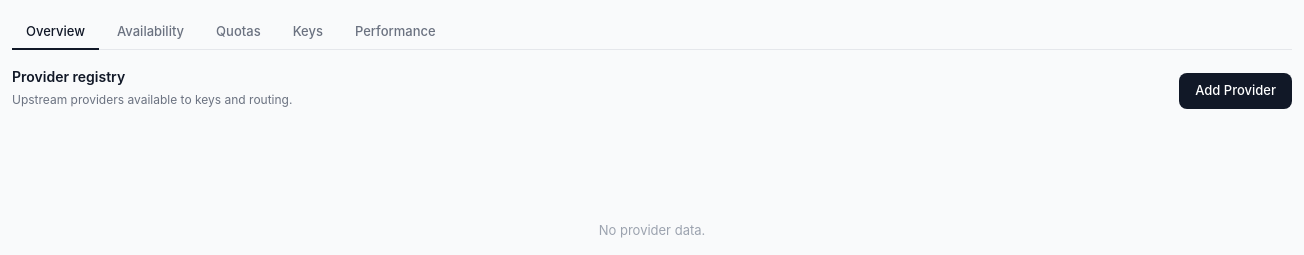
Test: ProvidersTab quotas › renders returned quota usage without the empty guidance
Step 1. Click the tab "Quotas" → {"x": 238, "y": 33}, box [202, 16, 275, 50]
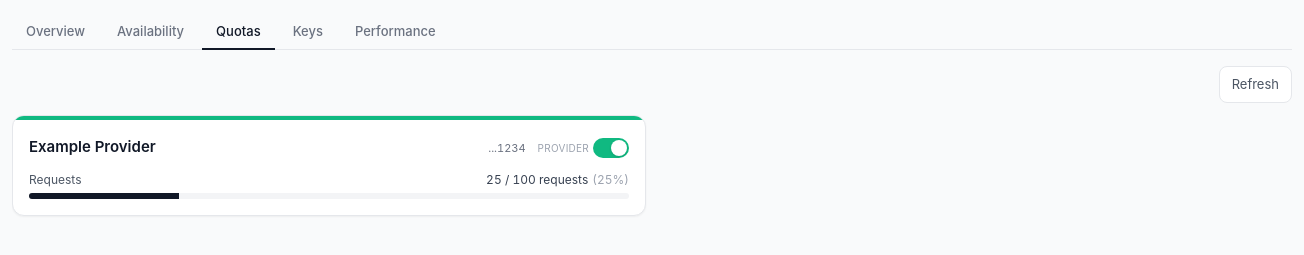
Result: the heading "Example Provider" is shown at [29, 136, 156, 158]
Result: the text "Requests" is shown at [29, 170, 82, 188]
Result: the text "25 / 100 requests(25%)" is shown at [486, 170, 629, 188]
